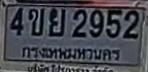2: (122, 9, 138, 38), (72, 8, 86, 36)
4: (10, 7, 22, 35)
5: (105, 8, 121, 37)
9: (89, 8, 103, 36)
A02: (28, 8, 44, 34)
A34: (48, 7, 65, 36)
BKK: (21, 43, 122, 64)
